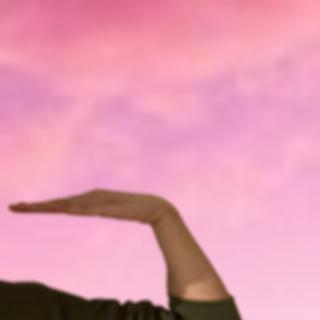WAIT: (4, 184, 175, 226)
